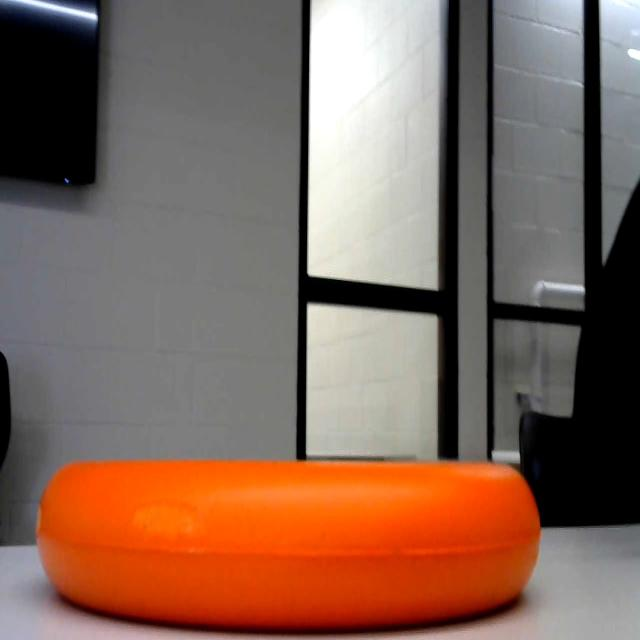note: (23, 428, 554, 640)
